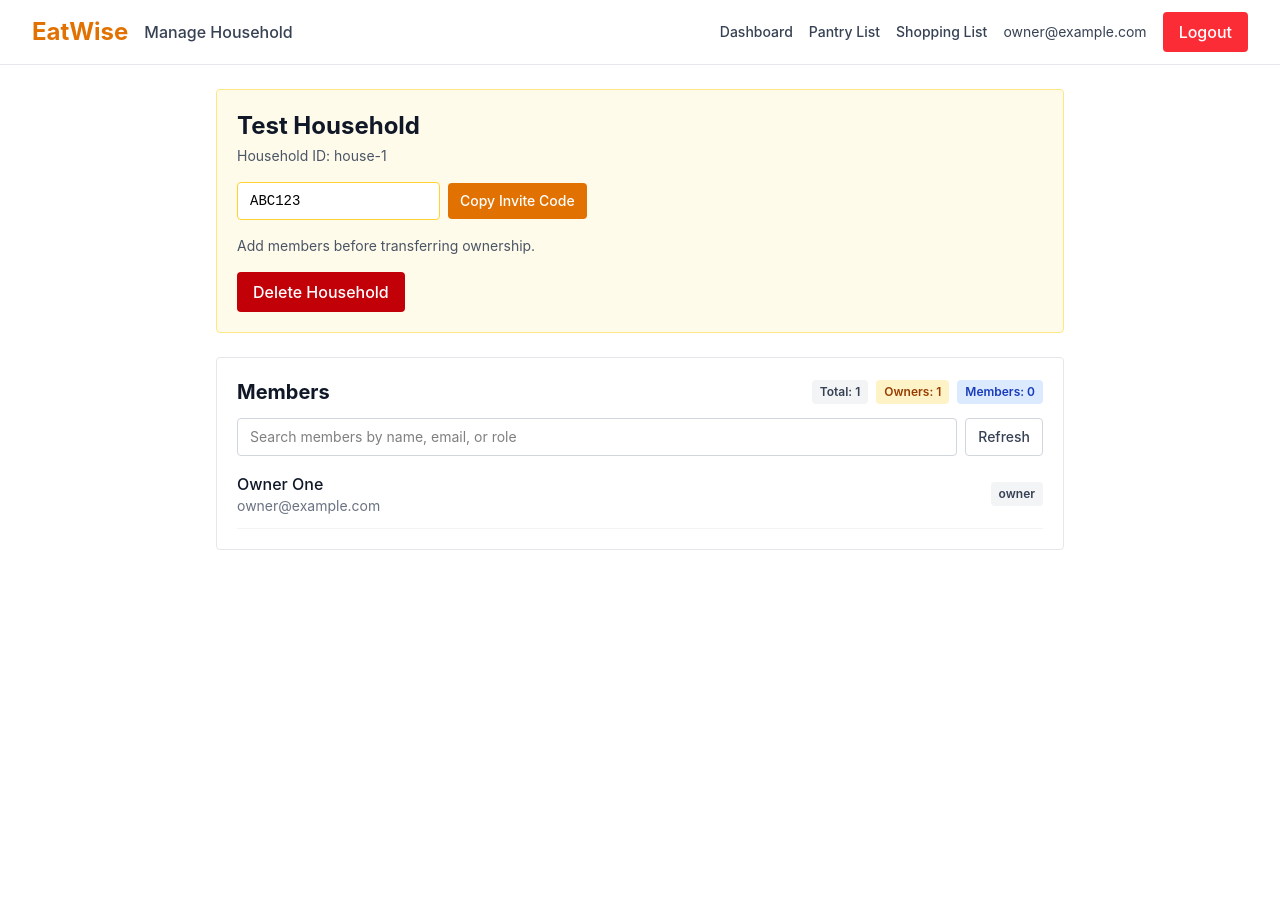
it: ManageHouseholdPage › refresh button reloads household members
Expected: the text "Owner One" is shown, top-left (237, 474), bottom-right (323, 494)
Expected: the text "New Member" is not shown
Click the button "Refresh" at (1004, 437), box top-left (965, 418), bottom-right (1043, 456)
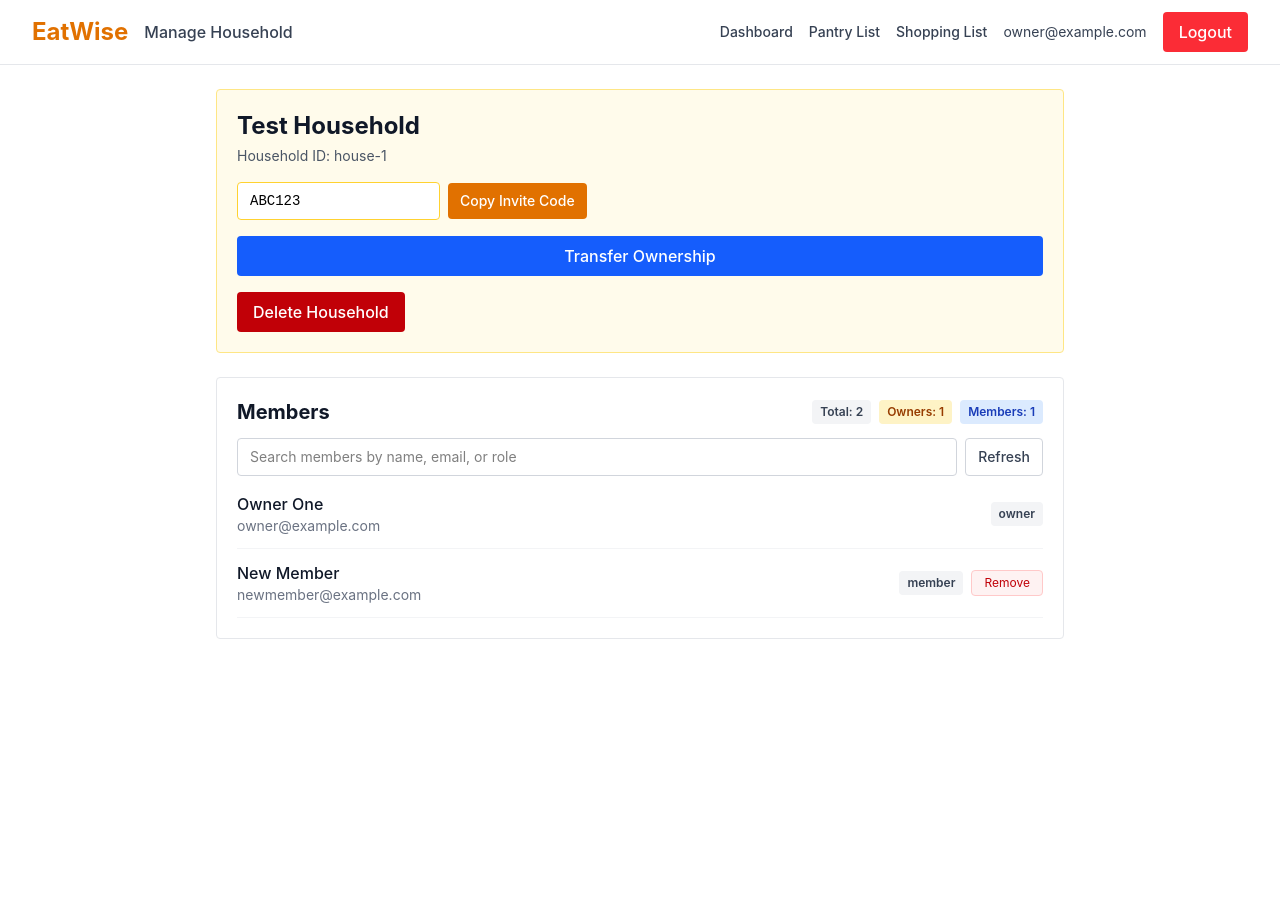
Now the text "New Member" is shown, box top-left (237, 563), bottom-right (340, 583)
